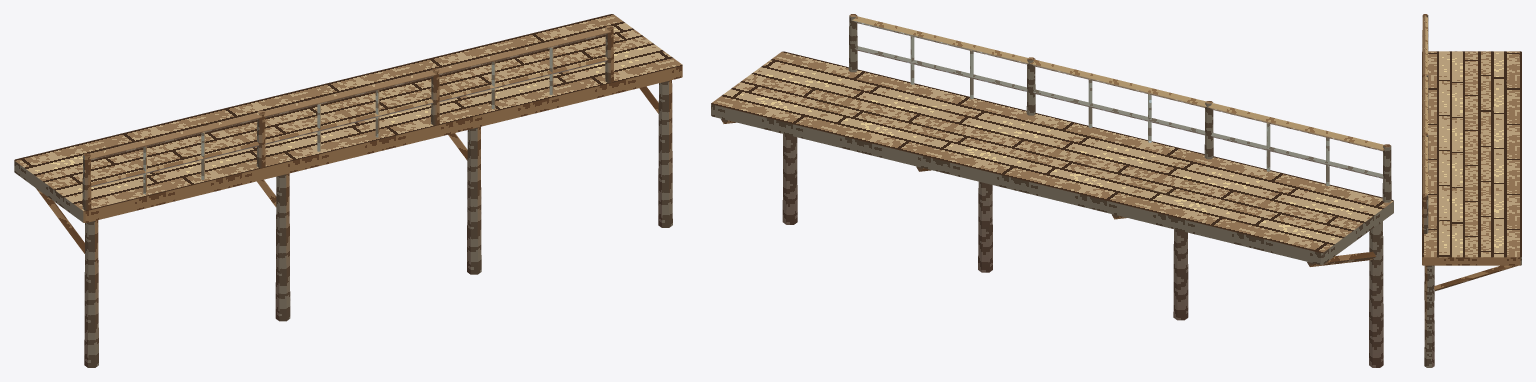
File: wtown.gallery.glb
The picture shows the model from 3 angles, left to right: view 1: azimuth 30°, elevation 25°; view 2: azimuth 150°, elevation 25°; view 3: azimuth 270°, elevation 25°; orthographic projection. The views are drawn at different scales.
Visible parts, largest first — view 1: kit_deck, kit_railing, kit_posts, kit_braces; view 2: kit_deck, kit_railing, kit_posts, kit_braces; view 3: kit_deck, kit_railing, kit_posts, kit_braces.
Part boxes in pixels (box(x1,y1,x2,y2)): kit_deck: box(14, 14, 682, 222); kit_railing: box(82, 25, 613, 210); kit_posts: box(84, 80, 672, 367); kit_braces: box(36, 86, 658, 253); kit_deck: box(711, 51, 1393, 264); kit_railing: box(848, 14, 1391, 202); kit_posts: box(782, 134, 1383, 367); kit_braces: box(721, 119, 1376, 266); kit_deck: box(1422, 51, 1521, 265); kit_railing: box(1422, 14, 1428, 233); kit_posts: box(1424, 265, 1434, 367); kit_braces: box(1434, 265, 1517, 291).
Bounding box in the file's own units: 11.72 × 4.01 × 2.4.
Materials: 4 (4 with a texture image).
